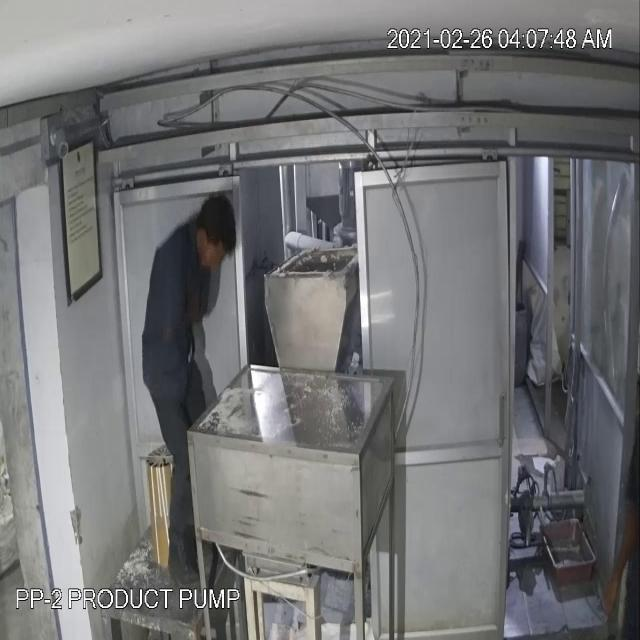no-helmet: (196, 180, 242, 262)
